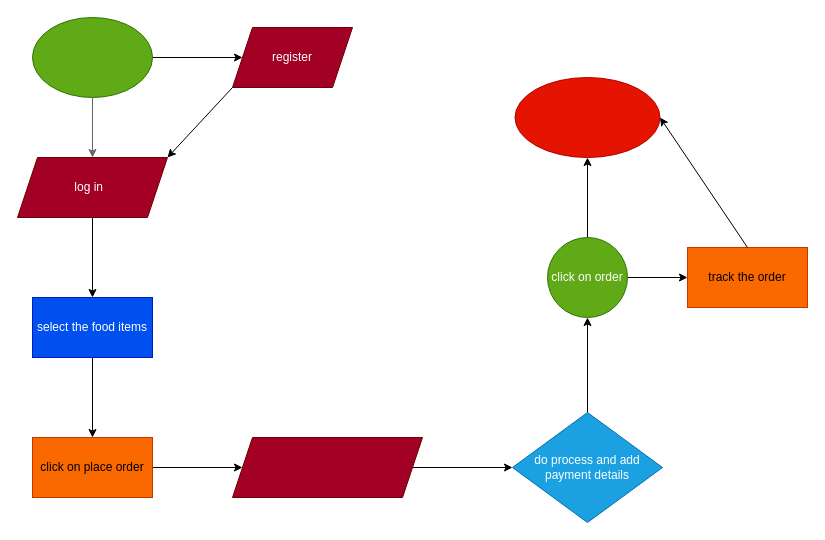
Image size: 825x540. Some labels were removed from this diagram. Here are the shapes that lost their labels. From the top down, the centre of each, then its label:
At point 92,57: "start / install".
At point 587,117: "close the app".
At point 327,467: "add address(home or office)".
